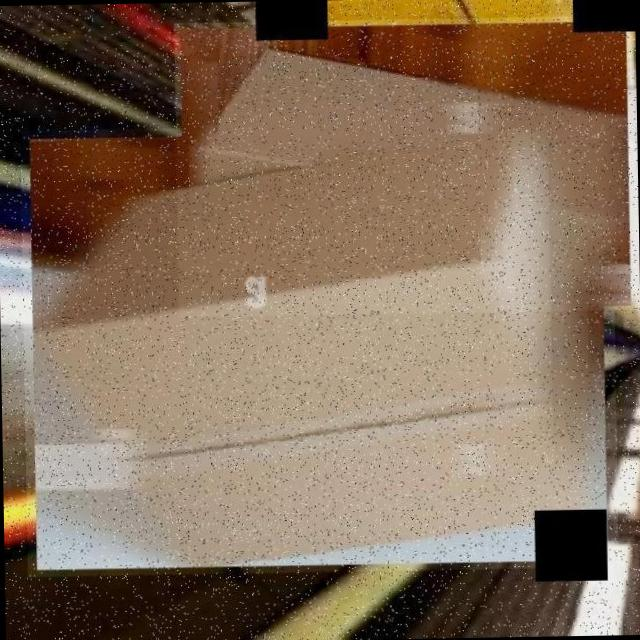box: (19, 120, 618, 576), (174, 15, 638, 317)
